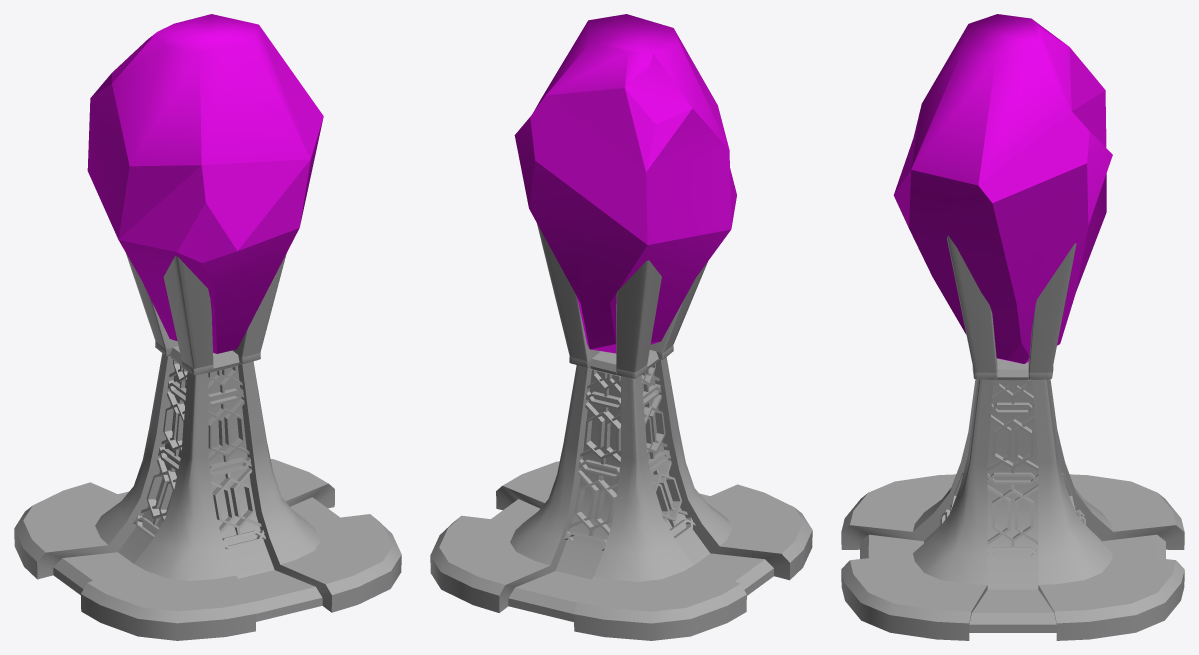
The model's file is Statue (1).fbx.
3 views of the same model, side by side, from view 1: azimuth 30°, elevation 25°; view 2: azimuth 150°, elevation 25°; view 3: azimuth 270°, elevation 25° (orthographic).
Visible parts, largest first — view 1: MineRoom:pCube45, Crystal, MineRoom:mesh_pillar_MineRoom:pCube124; view 2: MineRoom:pCube45, Crystal, MineRoom:mesh_pillar_MineRoom:pCube124; view 3: MineRoom:pCube45, Crystal, MineRoom:mesh_pillar_MineRoom:pCube124.
Part boxes in pixels (x1,y1,x2,y2): MineRoom:pCube45: (14,253,401,640); Crystal: (87,14,323,353); MineRoom:mesh_pillar_MineRoom:pCube124: (133,360,265,548); MineRoom:pCube45: (430,224,812,640); Crystal: (514,14,736,353); MineRoom:mesh_pillar_MineRoom:pCube124: (564,363,695,550); MineRoom:pCube45: (841,235,1184,640); Crystal: (893,14,1112,363); MineRoom:mesh_pillar_MineRoom:pCube124: (940,381,1085,558).
Bounding box in the file's own units: 1.39 × 2.37 × 1.39.
